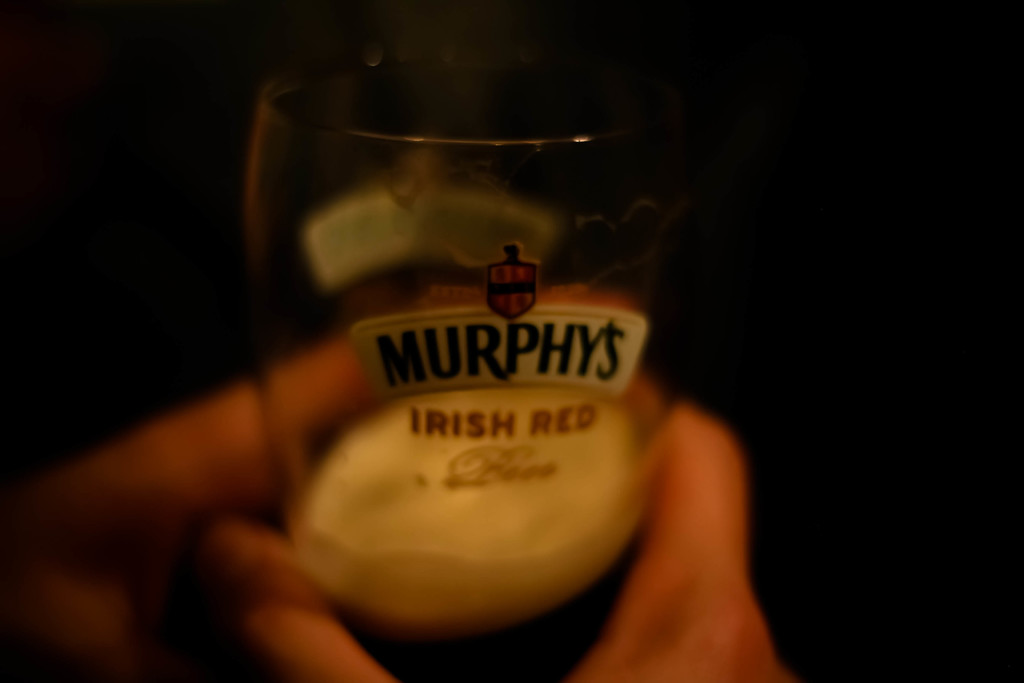Beer: (305, 390, 641, 682)
